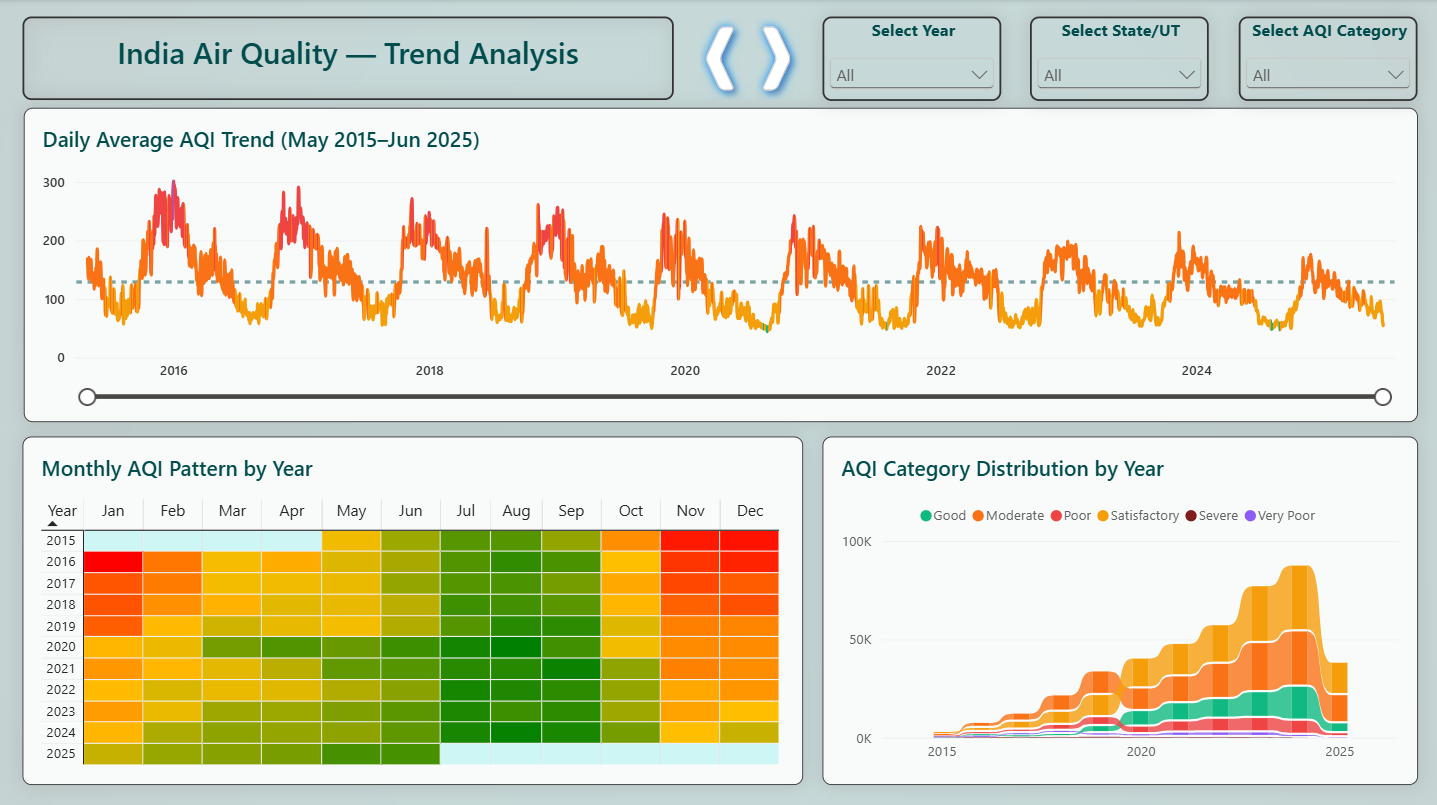

Layout of this report page (visuals, bound fields, positions):
{"tool":"powerbi","page":{"name":"AQI Trend Analysis","canvas":[1280,720],"ordinal":1},"visuals":[{"type":"lineChart","title":"Daily Average AQI Trend (May 2015–Jun 2025)","fields":{"Y":["AQI_Data.Average AQI"],"Category":["AQI_Data.date"]},"box":[20.9,96.5,1241.9,280.2],"z":0},{"type":"pivotTable","title":"Monthly AQI Pattern by Year","fields":{"Values":["AQI_Data.Average AQI"],"Rows":["AQI_Data.Year"],"Columns":["AQI_Data.Month"]},"box":[20.5,389.7,695,310],"z":1000},{"type":"ribbonChart","title":"AQI Category Distribution by Year","fields":{"Y":["CountNonNull(AQI_Data.aqi_value)"],"Series":["AQI_Data.air_quality_status"],"Category":["AQI_Data.date.Variation.Date Hierarchy.Year","AQI_Data.date.Variation.Date Hierarchy.Quarter","AQI_Data.date.Variation.Date Hierarchy.Month","AQI_Data.date.Variation.Date Hierarchy.Day"]},"box":[732.3,389.7,530,310],"z":2000},{"type":"textbox","box":[20.5,15.7,580.3,74.8],"z":3000},{"type":"slicer","title":"Select Year","fields":{"Values":["AQI_Data.Year"]},"box":[732.3,15.7,159,75],"z":4000},{"type":"slicer","title":"Select State/UT","fields":{"Values":["AQI_Data.state"]},"box":[916.9,15.7,159,75],"z":5000},{"type":"slicer","title":"Select AQI Category","fields":{"Values":["AQI_Data.air_quality_status"]},"box":[1103.5,15.1,159,75],"z":6000},{"type":"actionButton","box":[669.6,15.7,44.6,74.8],"z":7000},{"type":"actionButton","box":[618.9,15.7,44.6,74.8],"z":8000}]}

Visuals, with their boxes in screenshot pixels (x1, y1, x2, y2), scaled from the page's 1280x720 canvas onto the 1437x805 screenshot:
"Daily Average AQI Trend (May 2015–Jun 2025)" lineChart: 23:108:1418:421
"Monthly AQI Pattern by Year" pivotTable: 23:436:803:782
"AQI Category Distribution by Year" ribbonChart: 822:436:1417:782
textbox: 23:18:674:101
"Select Year" slicer: 822:18:1001:101
"Select State/UT" slicer: 1029:18:1208:101
"Select AQI Category" slicer: 1239:17:1417:101
actionButton: 752:18:802:101
actionButton: 695:18:745:101
